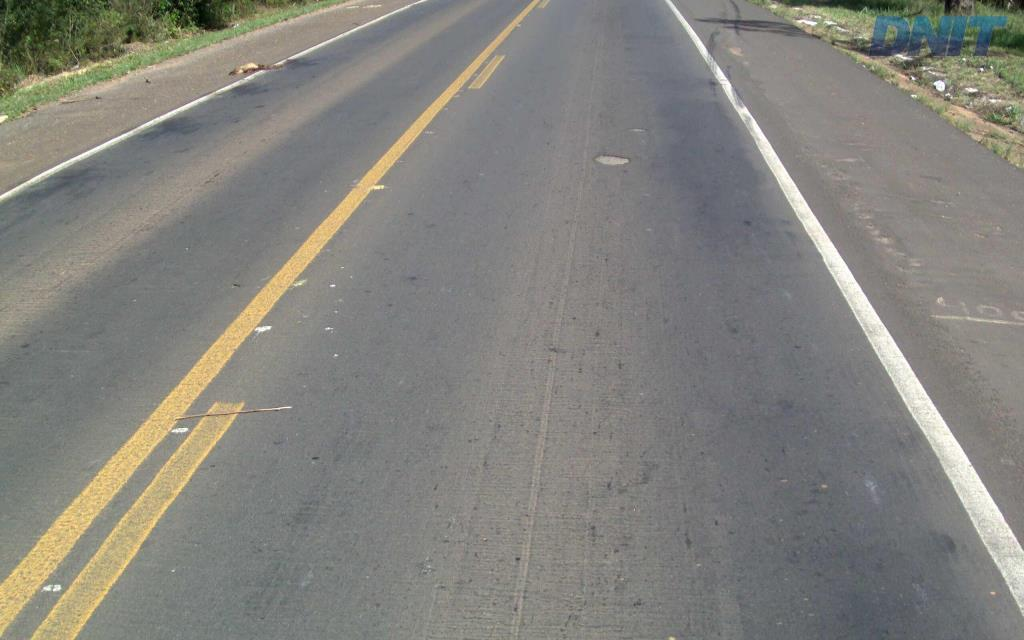pothole: (589, 150, 633, 168)
